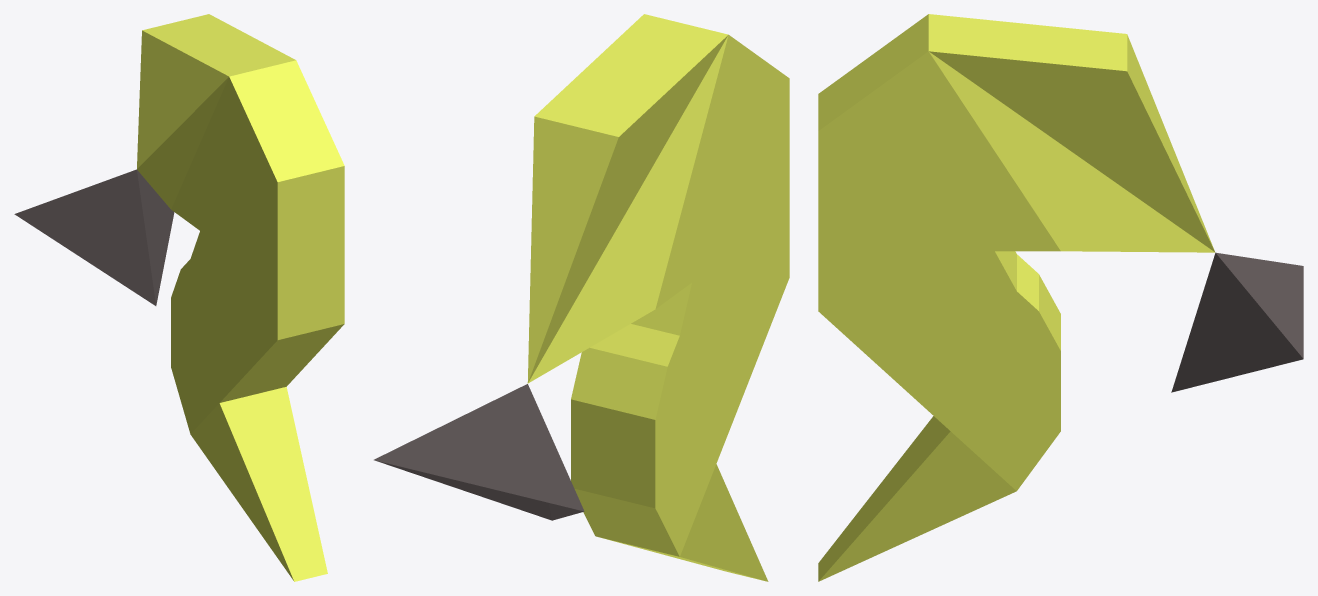
File: npc_world_sir_mordred_9.obj
3 views of the same model, side by side, from view 1: azimuth 30°, elevation 25°; view 2: azimuth 150°, elevation 25°; view 3: azimuth 270°, elevation 25° (orthographic). The views are drawn at different scales.
Size of the model in its own units: 0.0781 by 0.2109 by 0.1719.
